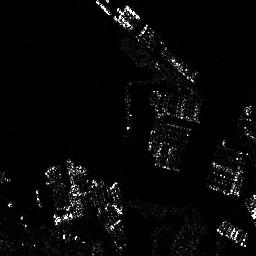ship: (216, 218, 247, 247)
